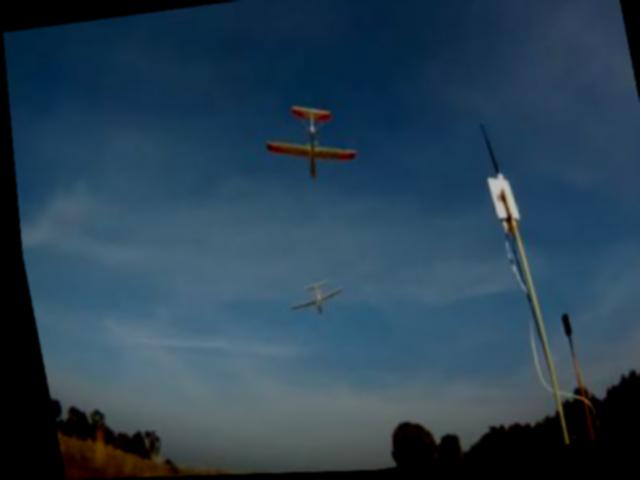uav: (247, 88, 364, 202), (271, 270, 348, 331)
